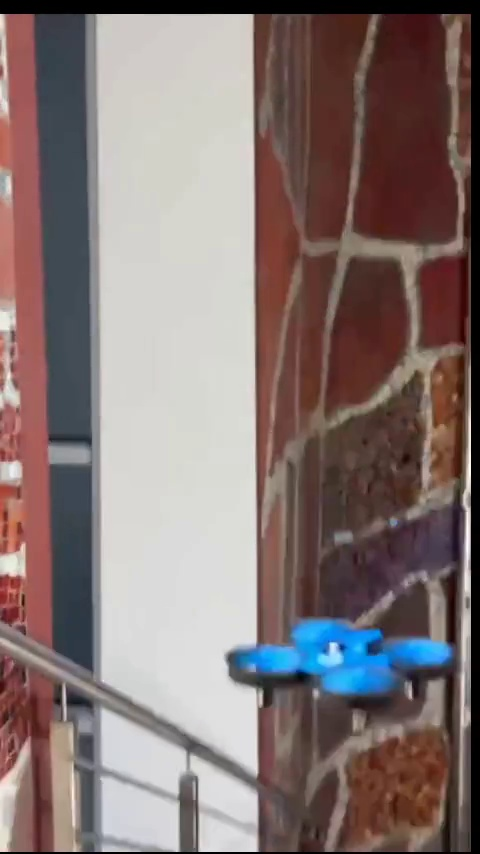drone: (234, 617, 459, 736)
